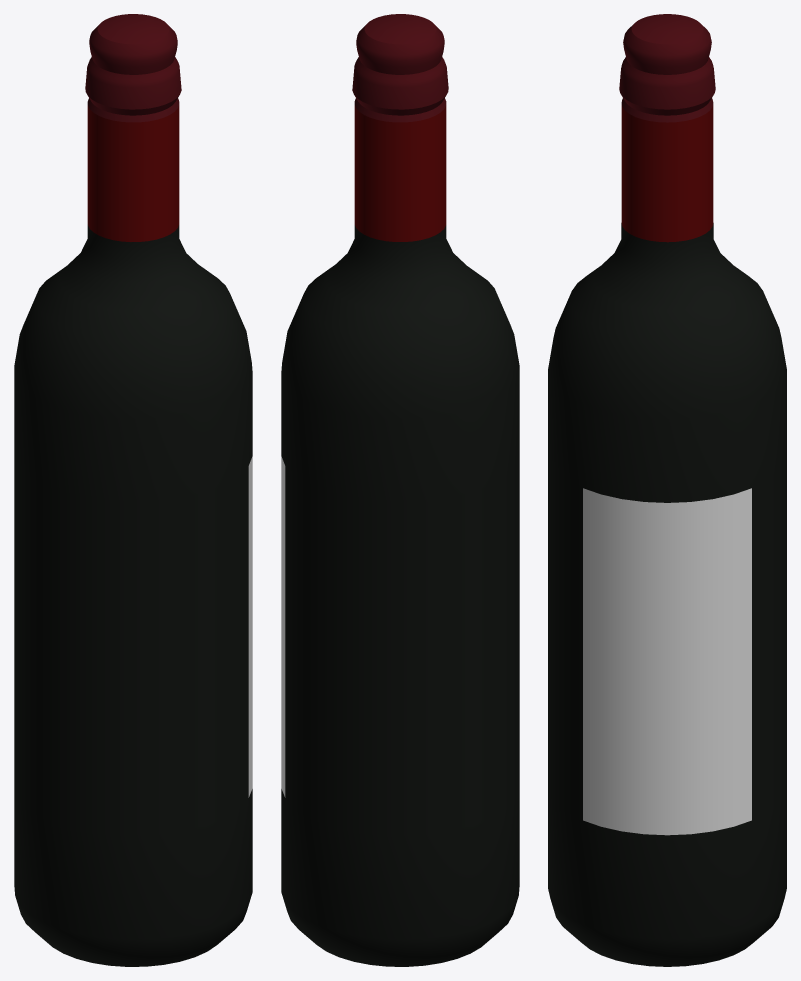
File: wine_bottle.glb
The picture shows the model from 3 angles, left to right: view 1: azimuth 30°, elevation 25°; view 2: azimuth 150°, elevation 25°; view 3: azimuth 270°, elevation 25°; orthographic projection.
Visible parts, largest first — view 1: Circle.002; view 2: Circle.002; view 3: Circle.002.
Boxes of the visible parts, <box> form: Circle.002: <box>14,14,252,966</box>; Circle.002: <box>281,14,519,966</box>; Circle.002: <box>548,14,786,966</box>.
Size of the model in its own units: 1.12 by 4.68 by 1.12.
